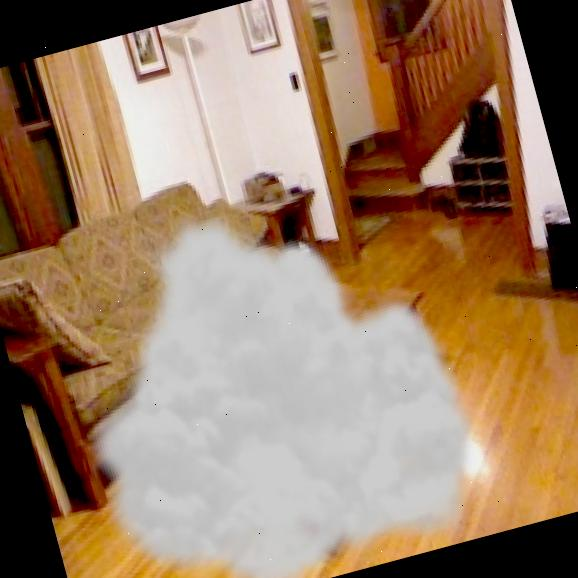smoke: (26, 151, 509, 578)
